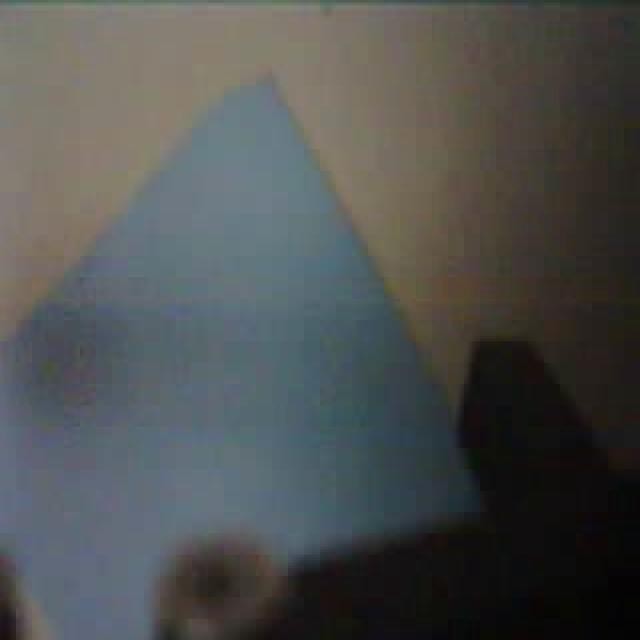blue_box: (0, 64, 488, 637)
